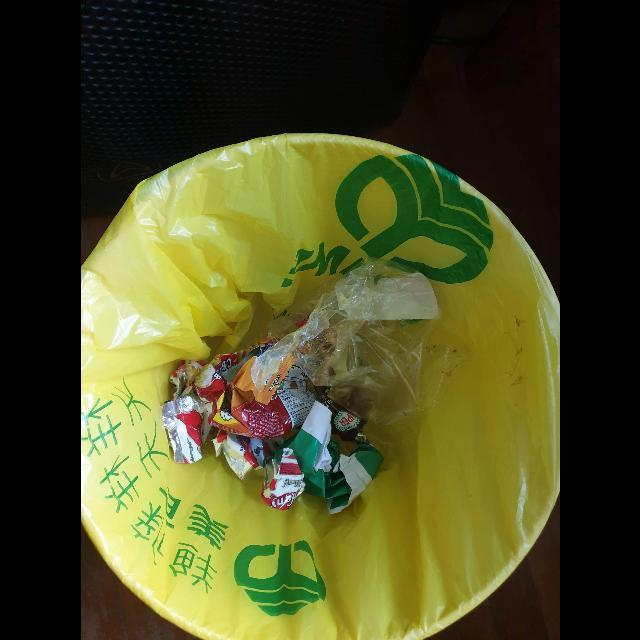food_wrapper: (191, 337, 316, 440), (211, 430, 273, 482), (160, 394, 206, 464), (260, 448, 305, 511), (169, 360, 207, 400)
paper: (287, 401, 384, 515)
plastic_bag: (249, 259, 438, 425)
